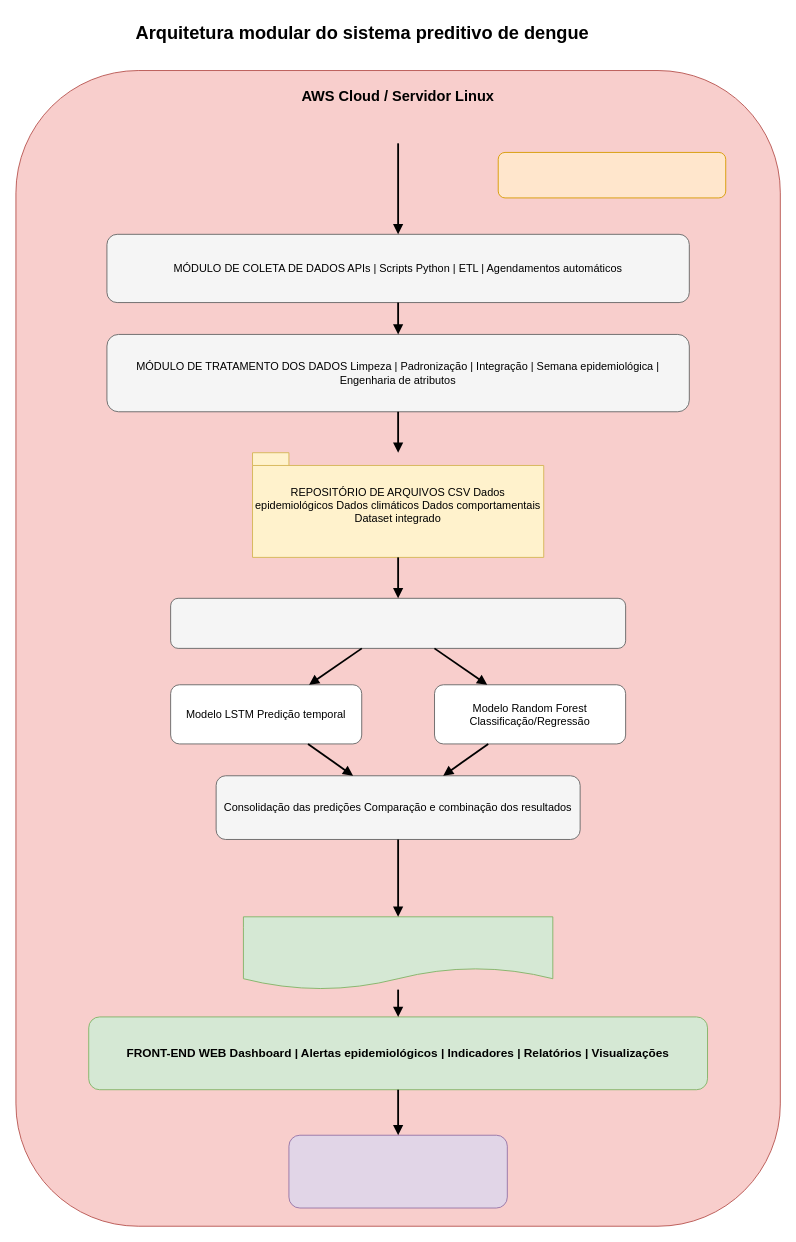
Some shapes in this 796 by 1242 pixel diagram are drawn without their labels. The shapes that lost their labels are listed below. From the top down, each one's centre as x and y in pixels, then its label:
At point (611, 175): "Infraestrutura: EC2/Linux + diretórios CSV + scripts Python".
At point (398, 622): "MÓDULO DE PREDIÇÃO DE DENGUE".
At point (398, 953): "Geração de arquivo XML Saída estruturada para consumo pelo front-end".
At point (397, 1171): "Usuários Gestores de saúde Vigilância epidemiológica Pesquisadores".
